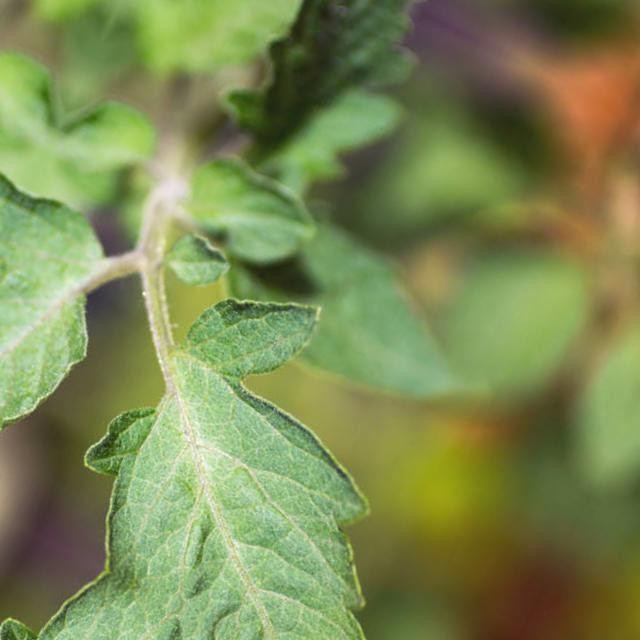Tomato leaf: (47, 302, 584, 640), (0, 143, 165, 522)
